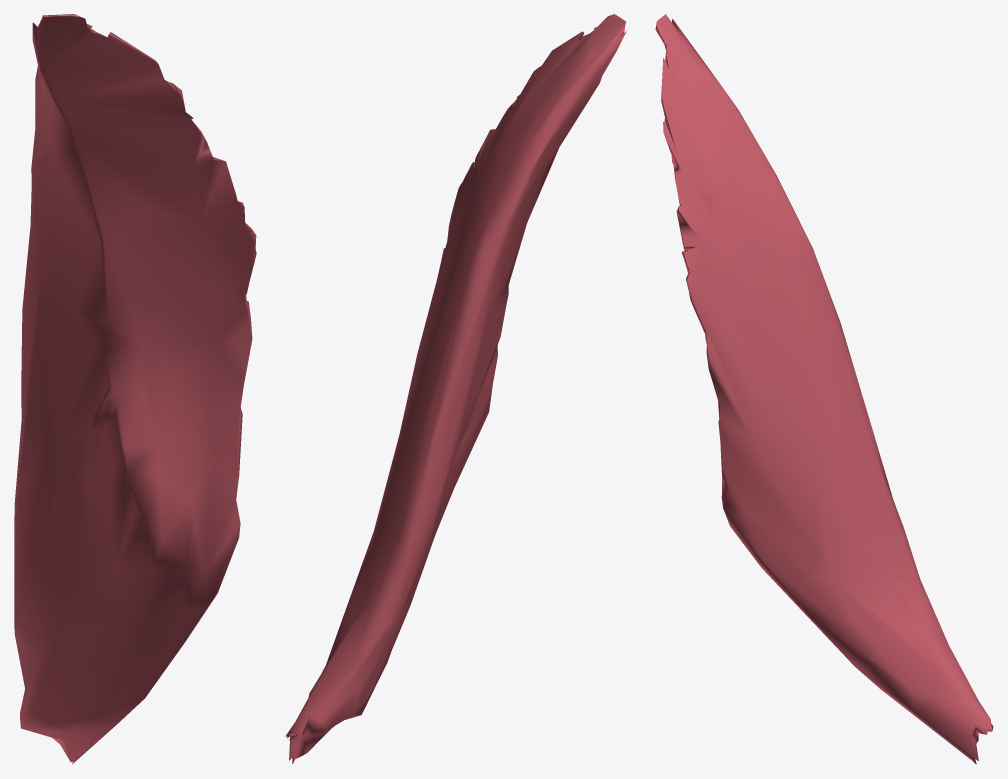
3 views of the same model, side by side, from view 1: azimuth 30°, elevation 25°; view 2: azimuth 150°, elevation 25°; view 3: azimuth 270°, elevation 25° (orthographic). The views are drawn at different scales.
Parts seen in each view (by area): view 1: 左侧头上斜肌; view 2: 左侧头上斜肌; view 3: 左侧头上斜肌.
Boxes of the visible parts, x1,y1,x2,y2 form: 左侧头上斜肌: [14, 14, 256, 764]; 左侧头上斜肌: [285, 14, 626, 763]; 左侧头上斜肌: [655, 14, 993, 764].
Bounding box in the file's own units: 0.0211 × 0.0734 × 0.0338.
